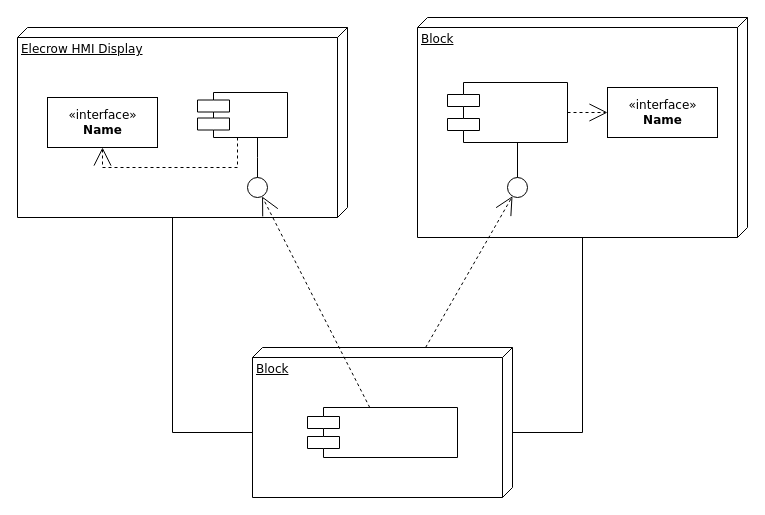
Image size: 765x515. Some labels were removed from this diagram. Each missing label, with the centre of its shape:
ESP32: point 242,115
Module: point 507,112
Raspberry Pi Pico: point 382,432
